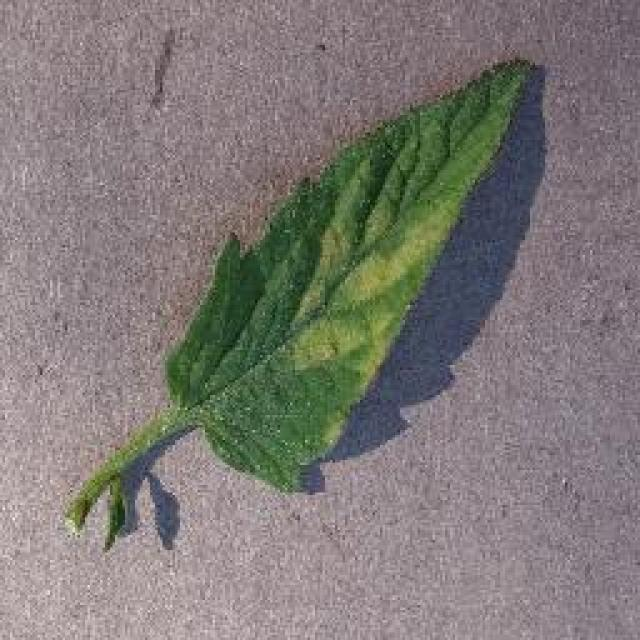Tomato___Leaf_Mold: (65, 60, 530, 545)
